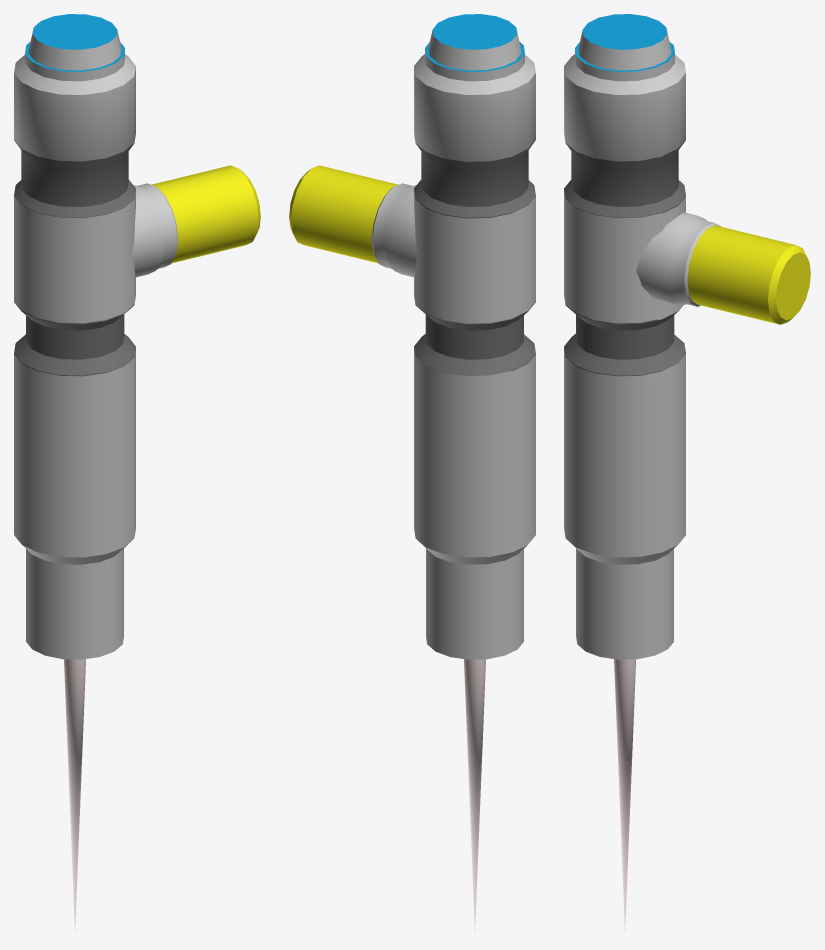
Rendered from Adrenaline.fbx.
3 renders of one model, left to right at view 1: azimuth 30°, elevation 25°; view 2: azimuth 150°, elevation 25°; view 3: azimuth 330°, elevation 25°, orthographic.
Parts seen in each view (by area): view 1: Adrenaline; view 2: Adrenaline; view 3: Adrenaline.
Boxes of the visible parts, left/top/right/bottom form: Adrenaline: left=14, top=14, right=260, bottom=932; Adrenaline: left=289, top=14, right=535, bottom=932; Adrenaline: left=564, top=14, right=810, bottom=932.
Bounding box in the file's own units: 7.41 × 28.86 × 3.56.
Materials: 2 (1 with a texture image).
